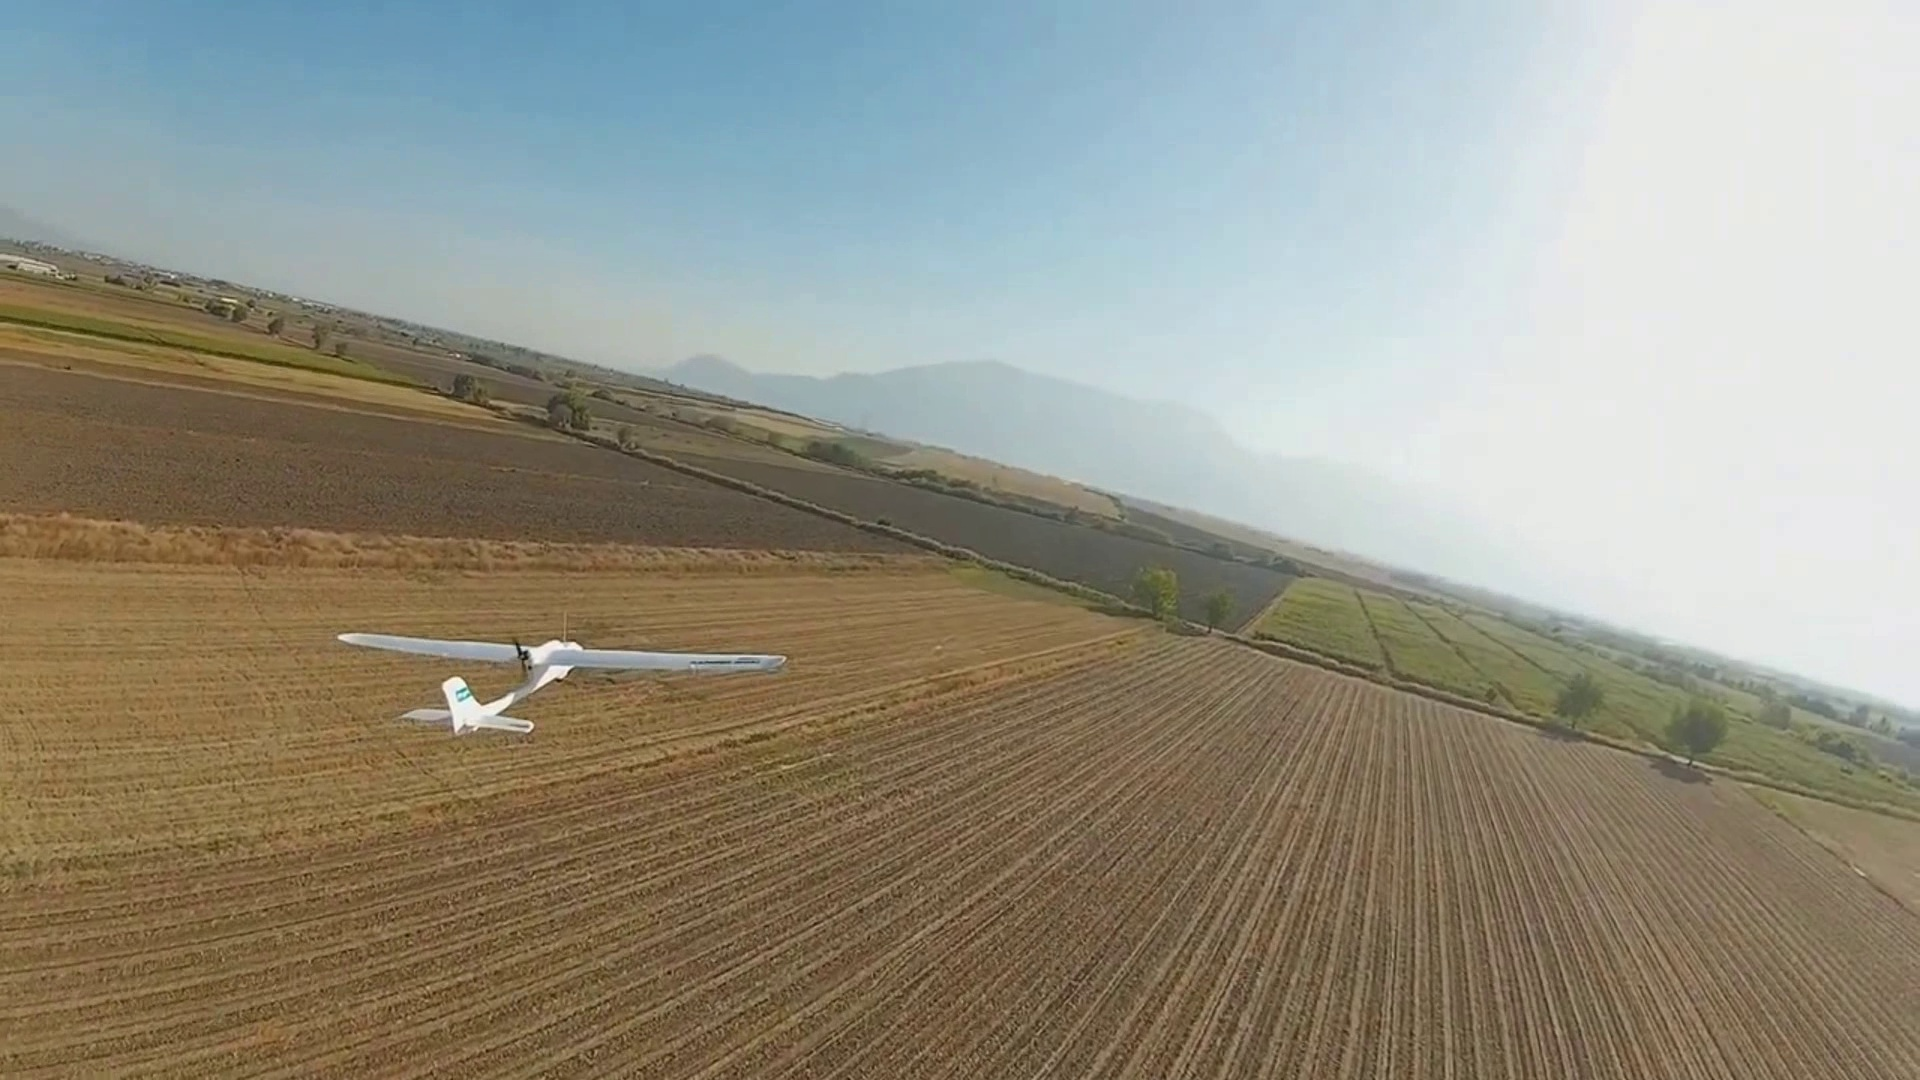airplane: (336, 630, 786, 735)
